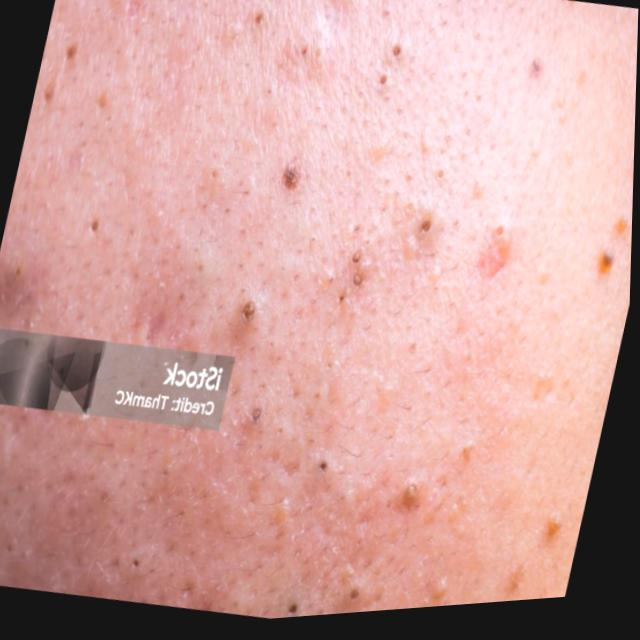blackhead: (234, 400, 375, 623), (216, 155, 317, 334), (323, 198, 444, 324), (0, 521, 162, 583), (230, 0, 317, 81), (33, 29, 94, 126), (357, 33, 414, 116), (75, 206, 108, 252)
